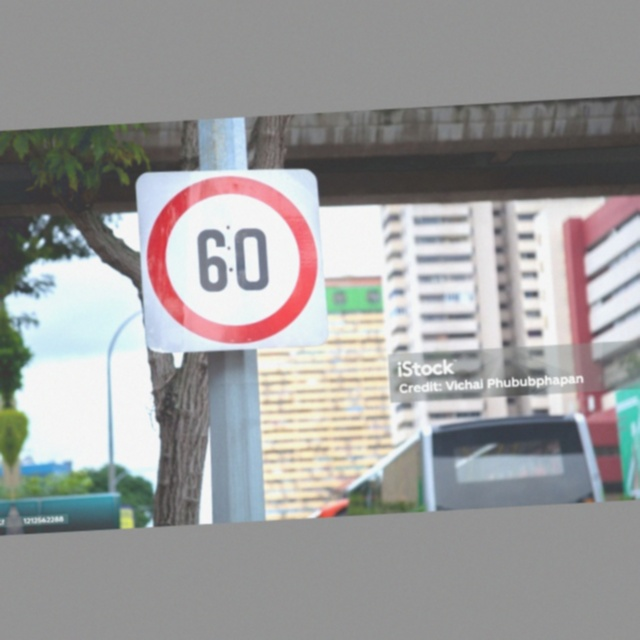Speed_Limit_60: (138, 167, 330, 357)
